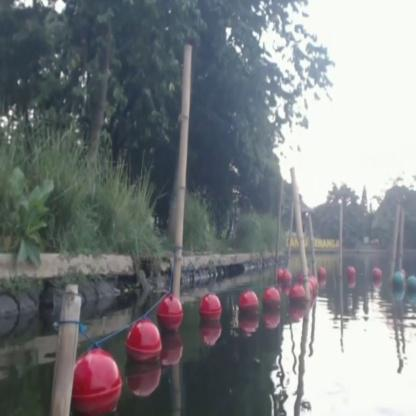green_buoy: (392, 267, 404, 295), (407, 274, 415, 297)
red_buoy: (75, 360, 121, 414), (126, 323, 160, 368), (159, 298, 183, 332), (200, 293, 222, 329), (240, 292, 258, 321), (262, 288, 279, 314), (290, 286, 304, 308), (318, 264, 328, 284), (370, 265, 380, 284), (309, 278, 318, 298), (280, 270, 290, 286), (348, 266, 356, 282)
